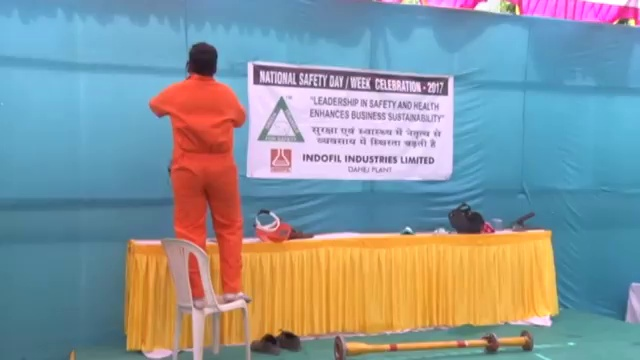helmet_off: (183, 40, 220, 79)
person: (152, 39, 252, 302)
